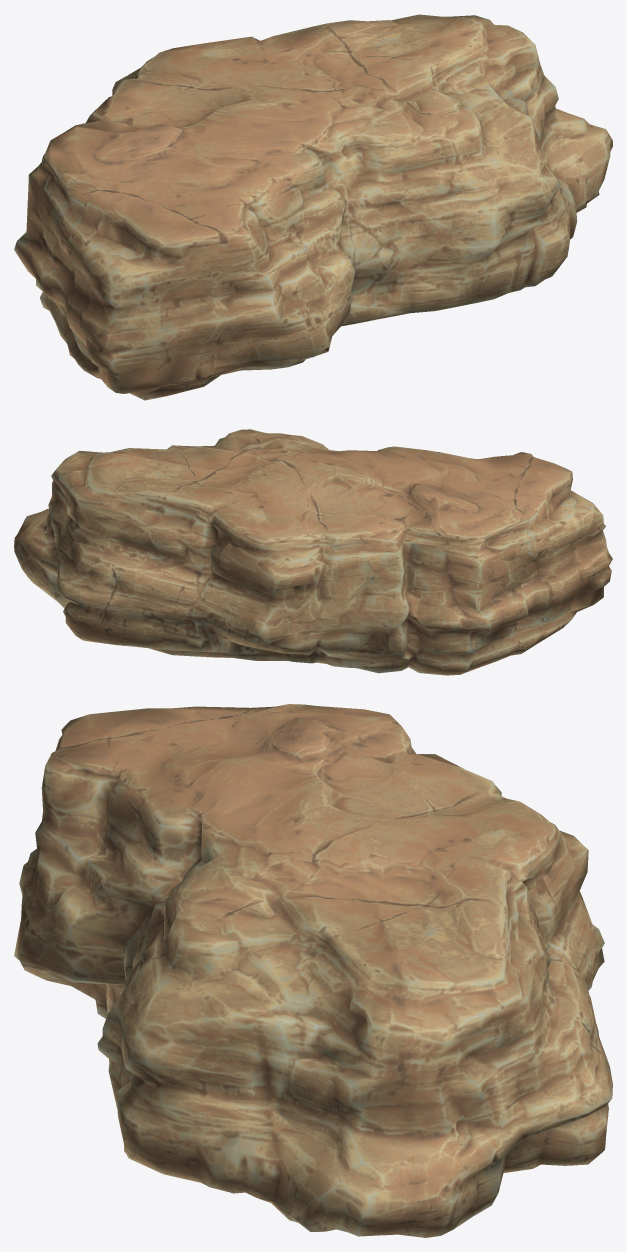
Rendered from DestRock1.fbx.
3 views of the same model, one above another, from view 1: azimuth 30°, elevation 25°; view 2: azimuth 150°, elevation 25°; view 3: azimuth 270°, elevation 25° (orthographic). The views are drawn at different scales.
Visible parts, largest first — view 1: HL_Desert_Rock_A.001; view 2: HL_Desert_Rock_A.001; view 3: HL_Desert_Rock_A.001.
Part boxes in pixels (x1=…): HL_Desert_Rock_A.001: x1=14, y1=14, x2=612, y2=400; HL_Desert_Rock_A.001: x1=14, y1=429, x2=612, y2=675; HL_Desert_Rock_A.001: x1=14, y1=704, x2=612, y2=1237.
Bounding box in the file's own units: 2267 × 708 × 1501.
1 material, 1 textured.
